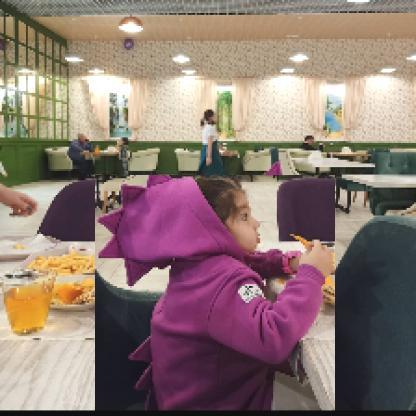child: (96, 176, 337, 415)
